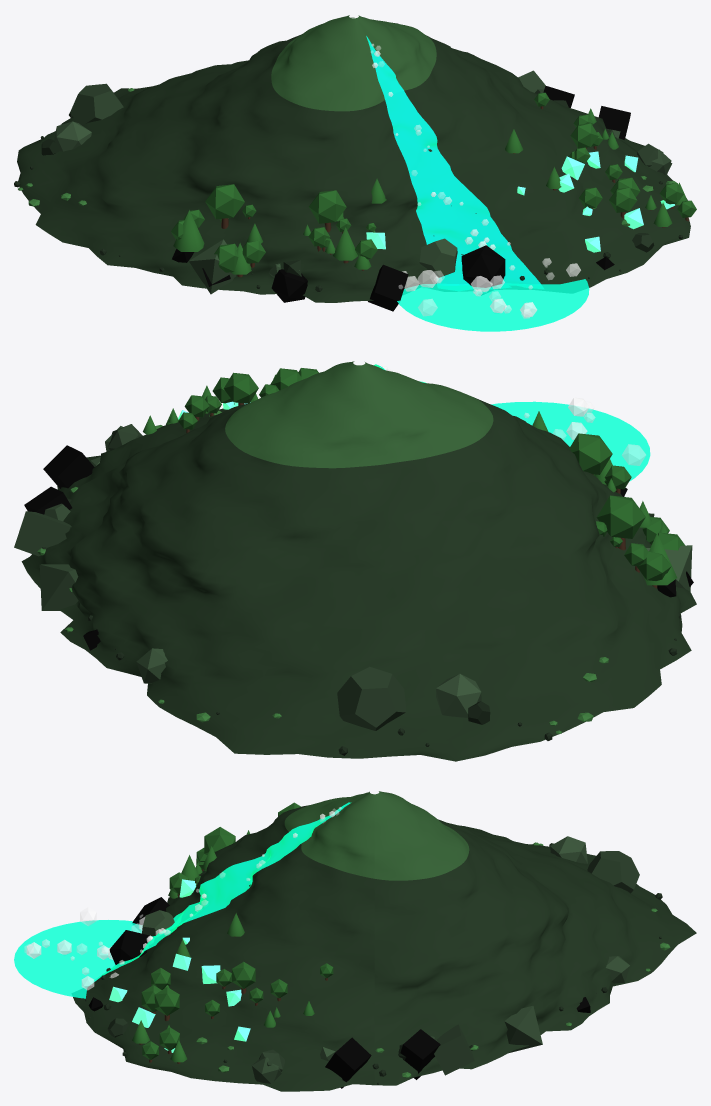
File: montana_7.glb
The picture shows the model from 3 angles, top to bottom: view 1: azimuth 30°, elevation 25°; view 2: azimuth 150°, elevation 25°; view 3: azimuth 270°, elevation 25°; orthographic projection. The views are drawn at different scales.
Visible parts, largest first — view 1: tierra, cima, rio, poza_agua, copa (×6), roca_20, roca_7, roca_14, roca_2, roca_24, roca_4, roca_19 (+1 smaller); view 2: tierra, cima, poza_agua, copa (×4), roca_7, roca_22, roca_9, roca_19, roca_1, roca_24, roca_25, roca_8; view 3: tierra, cima, poza_agua, rio, copa (×3), roca_7, roca_22, roca_9, roca_1, roca_8, roca_20, roca_19 (+3 smaller).
Part boxes in pixels (box(x1,y1,x2,y2)): tierra: box(17, 22, 690, 302); cima: box(271, 15, 436, 111); rio: box(366, 36, 541, 285); poza_agua: box(397, 279, 589, 331); copa (×6): box(173, 123, 637, 272); roca_20: box(461, 245, 505, 287); roca_7: box(70, 83, 123, 125); roca_14: box(368, 264, 408, 311); roca_2: box(419, 238, 457, 278); roca_24: box(189, 239, 236, 294); roca_4: box(271, 269, 307, 302); roca_19: box(54, 121, 91, 151); tierra: box(21, 397, 696, 761); cima: box(225, 361, 493, 468); poza_agua: box(491, 401, 650, 481); copa (×4): box(223, 372, 671, 580); roca_7: box(337, 666, 405, 730); roca_22: box(14, 511, 71, 556); roca_9: box(39, 564, 78, 610); roca_19: box(436, 674, 481, 717); roca_1: box(43, 445, 94, 488); roca_24: box(646, 545, 692, 591); roca_25: box(136, 648, 167, 683); roca_8: box(24, 486, 72, 514); tierra: box(72, 805, 696, 1091); cima: box(284, 791, 469, 880); poza_agua: box(14, 920, 141, 998); rio: box(95, 802, 351, 979); copa (×3): box(154, 827, 255, 1015); roca_7: box(587, 851, 639, 893); roca_22: box(434, 1024, 474, 1075); roca_9: box(504, 1006, 542, 1053); roca_1: box(325, 1037, 371, 1088); roca_8: box(400, 1029, 440, 1079); roca_20: box(109, 930, 149, 964); roca_19: box(550, 836, 587, 863).
Bounding box in the file's own units: 31.81 × 10.72 × 35.99.
